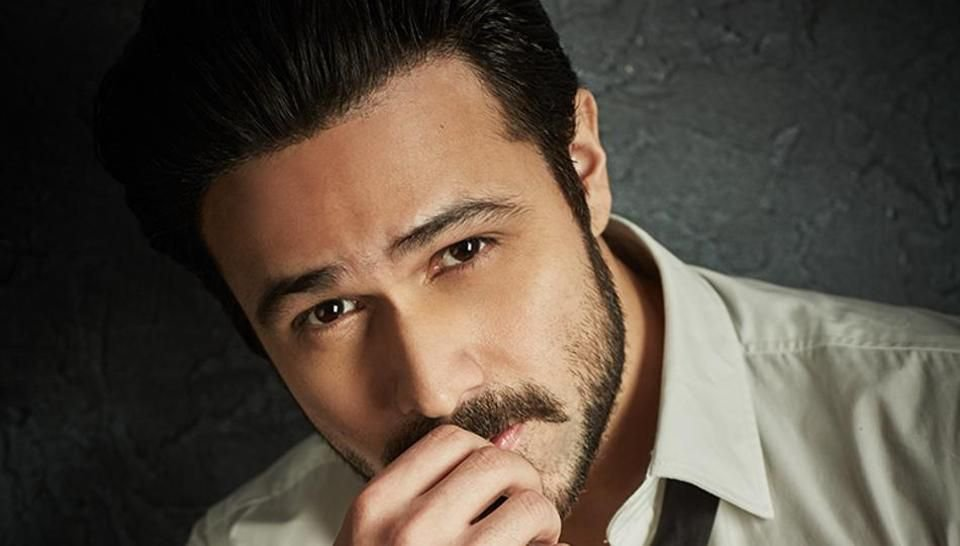noMask: (116, 20, 636, 514)
